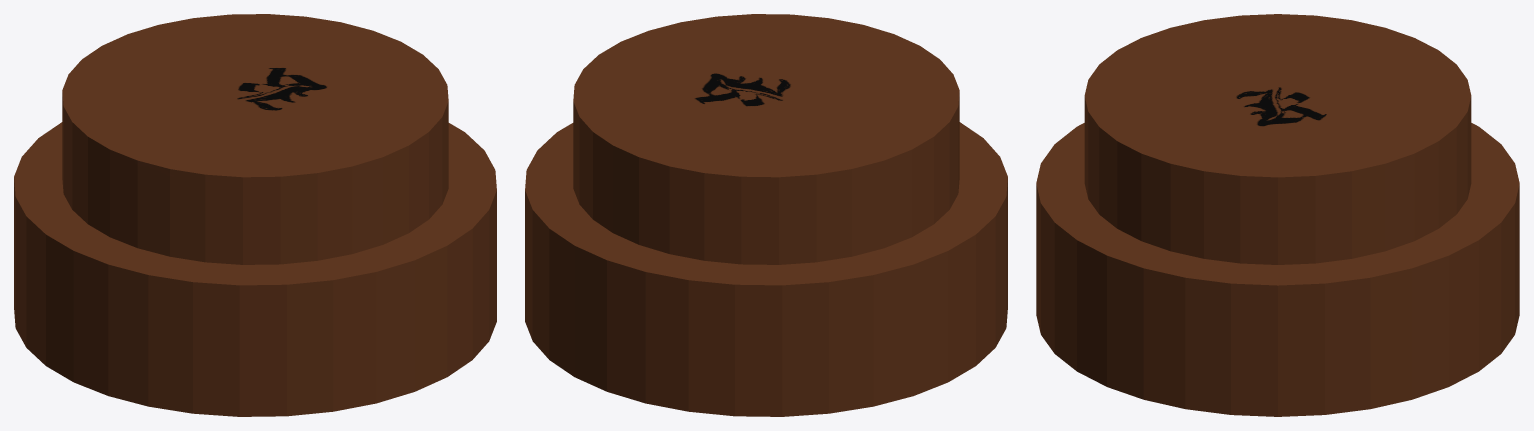
File: 3dcakelg.gltf
The picture shows the model from 3 angles, left to right: view 1: azimuth 30°, elevation 25°; view 2: azimuth 150°, elevation 25°; view 3: azimuth 270°, elevation 25°; orthographic projection.
Visible parts, largest first — view 1: Cylinder; view 2: Cylinder; view 3: Cylinder.
Part boxes in pixels (x1,y1,x2,y2): Cylinder: (14,14,496,416); Cylinder: (525,14,1007,416); Cylinder: (1036,14,1519,416).
Bounding box in the file's own units: 39.5 × 19.75 × 39.5.
Materials: 1 (1 with a texture image).
